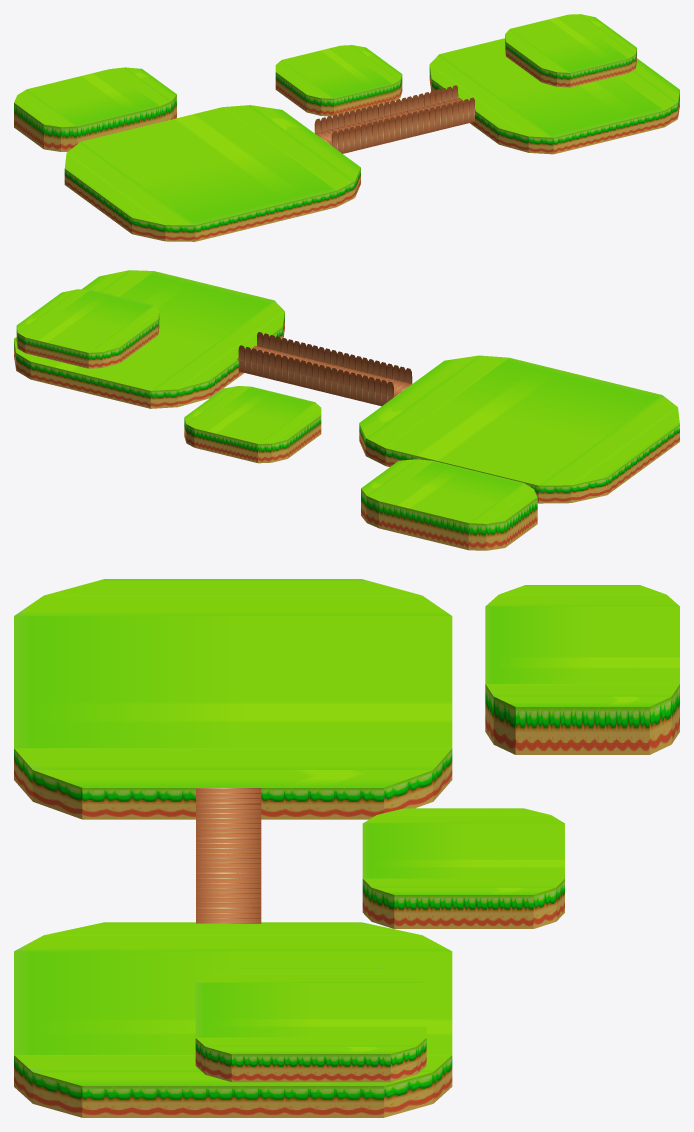
File: marioworldmap.obj
3 renders of one model, top to bottom at view 1: azimuth 30°, elevation 25°; view 2: azimuth 150°, elevation 25°; view 3: azimuth 270°, elevation 25°, orthographic. The views are drawn at different scales.
Parts seen in each view (by area): view 1: Cube, Cube.001, Cube.003, Cube.002, Cube.004, Plane.002, Plane.001, Plane; view 2: Cube, Cube.001, Cube.003, Cube.002, Cube.004, Plane.001, Plane.002, Plane; view 3: Cube, Cube.001, Cube.003, Cube.002, Cube.004, Plane.
Boxes of the visible parts, left/top/right/bottom form: Cube: left=64, top=105, right=360, bottom=241; Cube.001: left=429, top=38, right=679, bottom=154; Cube.003: left=14, top=67, right=176, bottom=151; Cube.002: left=505, top=14, right=636, bottom=87; Cube.004: left=275, top=45, right=402, bottom=116; Plane.002: left=331, top=97, right=474, bottom=153; Plane.001: left=314, top=85, right=458, bottom=133; Plane: left=315, top=98, right=475, bottom=145; Cube: left=359, top=355, right=679, bottom=503; Cube.001: left=14, top=270, right=284, bottom=408; Cube.003: left=361, top=459, right=537, bottom=550; Cube.002: left=16, top=289, right=159, bottom=368; Cube.004: left=184, top=386, right=321, bottom=463; Plane.001: left=238, top=345, right=393, bottom=406; Plane.002: left=257, top=332, right=412, bottom=383; Plane: left=237, top=346, right=411, bottom=397; Cube: left=14, top=579, right=452, bottom=819; Cube.001: left=14, top=922, right=452, bottom=1117; Cube.003: left=485, top=585, right=679, bottom=754; Cube.002: left=195, top=968, right=426, bottom=1082; Cube.004: left=362, top=808, right=564, bottom=928; Plane: left=196, top=788, right=261, bottom=923.
Size of the model in its own units: 68.59 by 3.89 by 38.06.
Materials: 55 (55 with a texture image).
